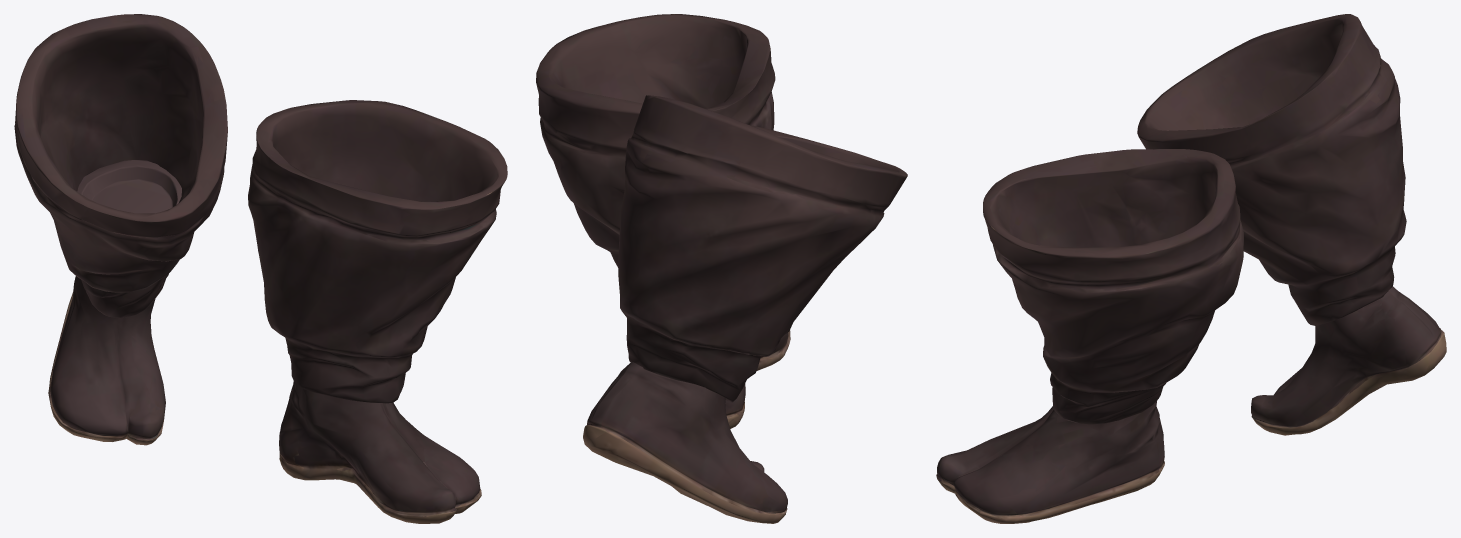
3 views of the same model, side by side, from view 1: azimuth 30°, elevation 25°; view 2: azimuth 150°, elevation 25°; view 3: azimuth 270°, elevation 25° (orthographic). The views are drawn at different scales.
Parts seen in each view (by area): view 1: Shoes; view 2: Shoes; view 3: Shoes.
Part boxes in pixels (x1,y1,x2,y2): Shoes: [14, 14, 507, 523]; Shoes: [536, 14, 907, 523]; Shoes: [936, 14, 1446, 523].
Size of the model in its own units: 0.5587 by 0.5486 by 0.6396.
1 material, 1 textured.
